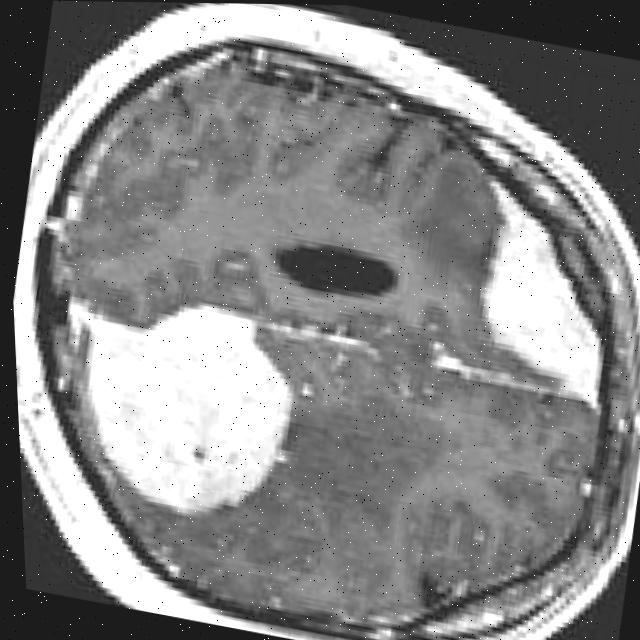Meningioma: (34, 277, 312, 530), (450, 171, 637, 415)
